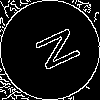N: (25, 25, 82, 77)
